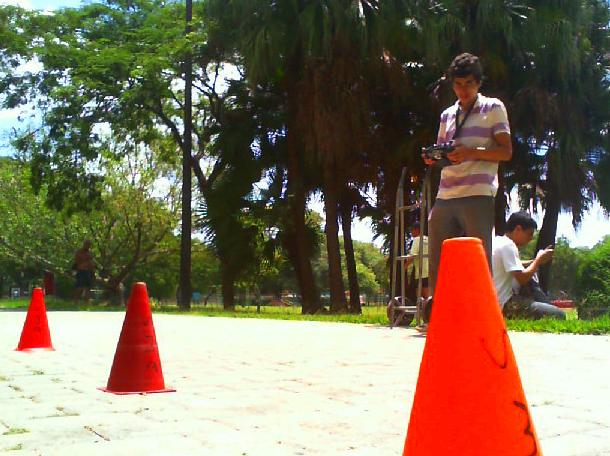0 cone: (399, 237, 548, 456), (96, 283, 176, 395), (14, 288, 55, 351)
